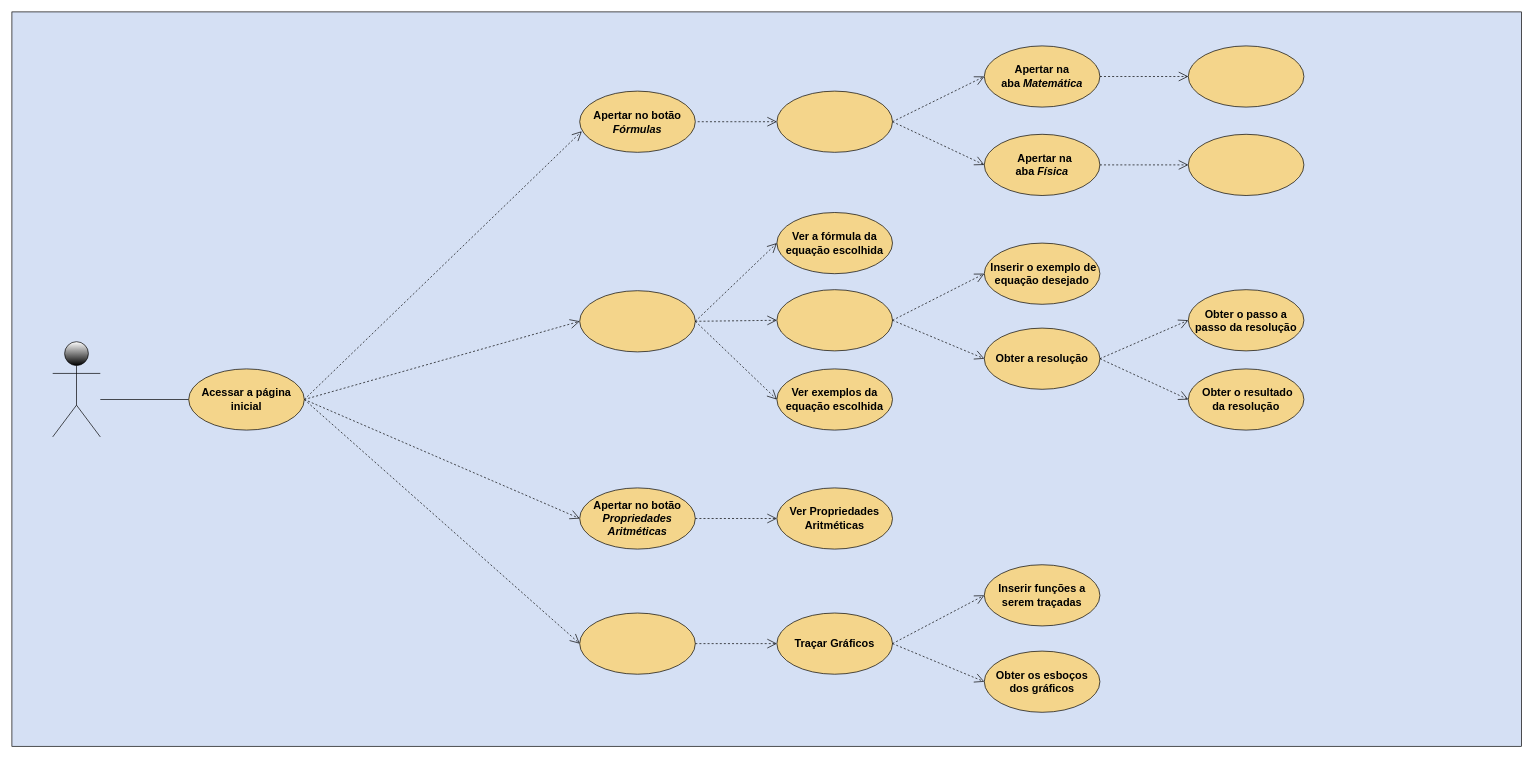
Some shapes in this 1533 by 758 pixel diagram are drawn without their labels. Each missing label, with the box of its shape:
Acessar a página de fórmulas: (776, 90, 893, 152)
Apertar no botão Gráficos: (579, 612, 695, 674)
Escolher equação de interesse: (579, 290, 695, 352)
Usar Calculadora: (776, 289, 893, 351)
Usuário: (52, 341, 100, 437)
Ver fórmulas de Física: (1188, 134, 1304, 196)
Ver fórmulas de Matemática: (1188, 45, 1304, 107)
